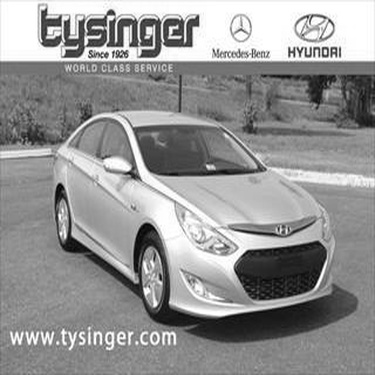car: (42, 104, 341, 331)
